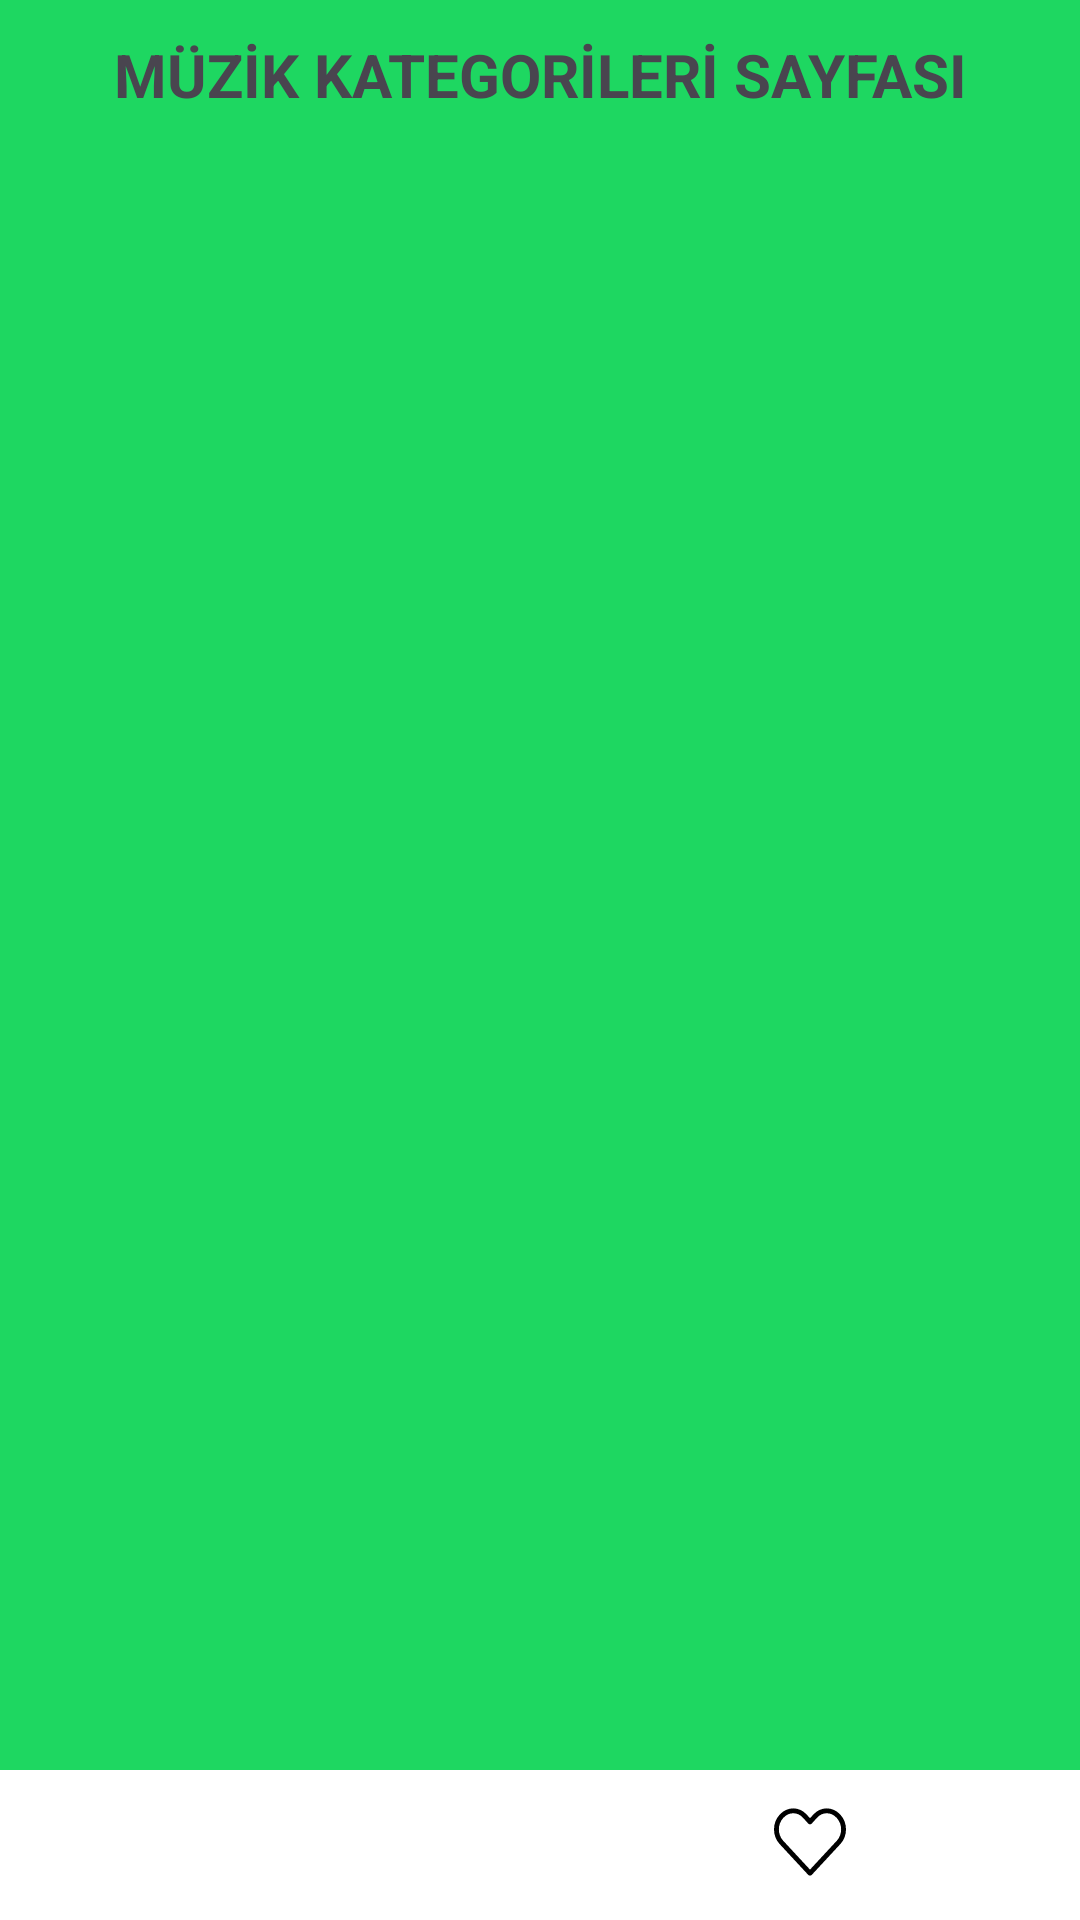

Named icons in this screenshot (1080*1920) and their centers, (x=x, y=y):
Likes: (x=810, y=1842)
